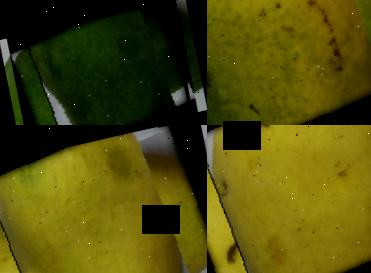PartiallyRipe: (207, 0, 371, 125)
Ripe: (0, 125, 207, 273), (207, 125, 371, 273)
Unripe: (9, 0, 194, 125)
